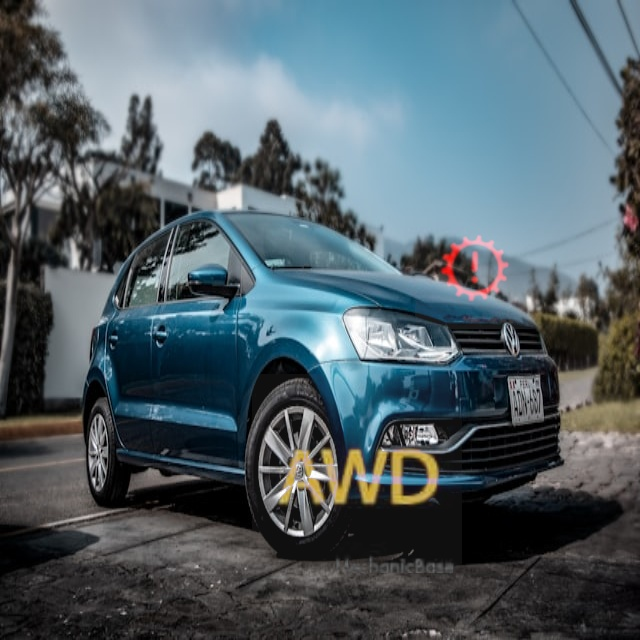symbol: (252, 374, 462, 584), (415, 208, 536, 329)
